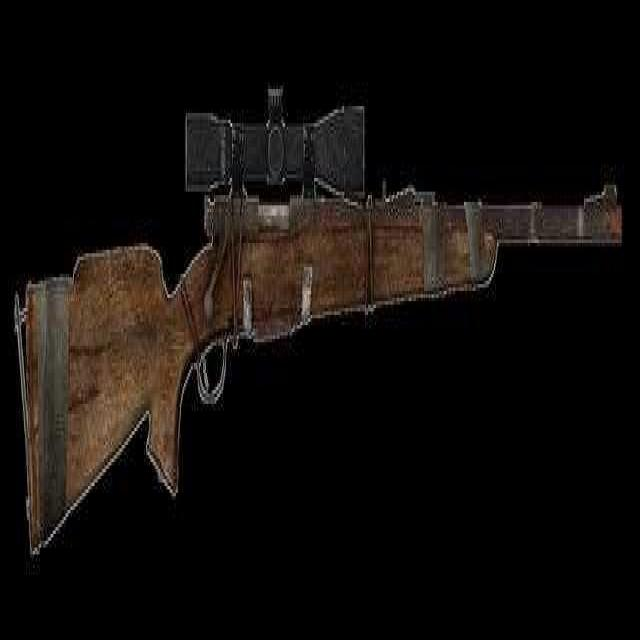heavyweapon: (18, 22, 634, 614)
